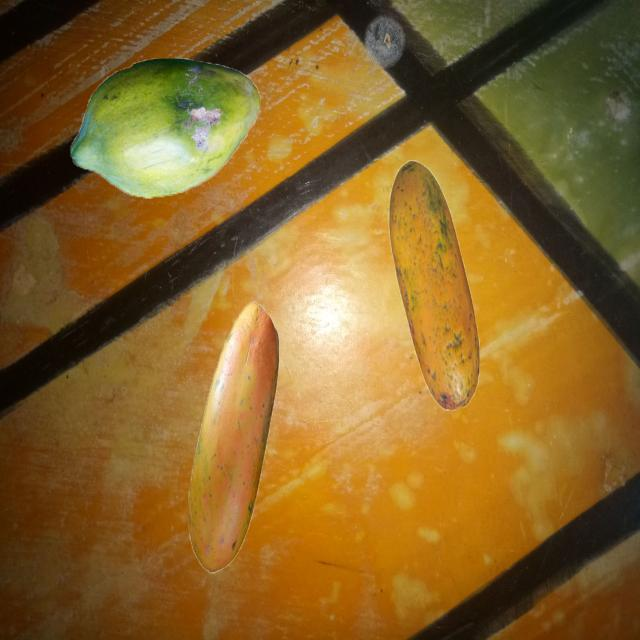Pepaya rippen: (377, 154, 492, 441), (64, 50, 264, 210), (184, 306, 298, 570)
